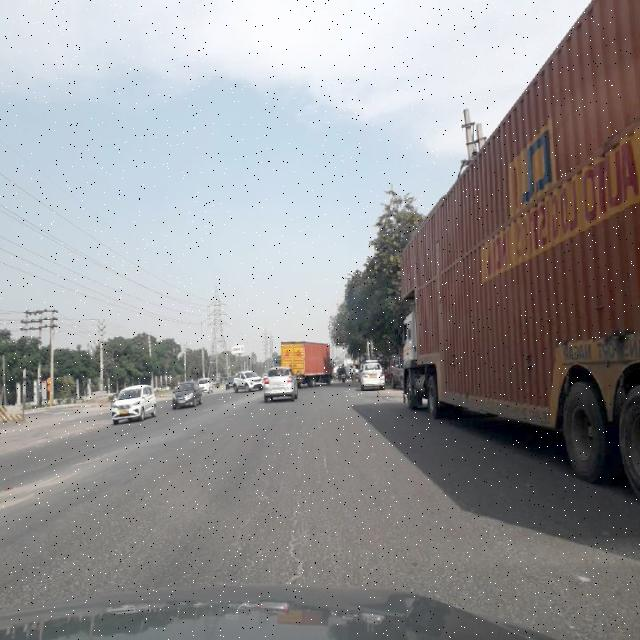D00: (271, 489, 317, 585), (306, 404, 338, 482)
